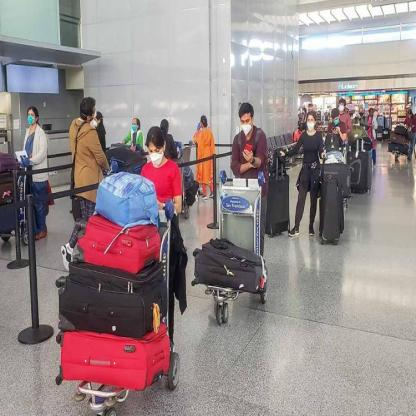airport-trolley: (68, 200, 179, 416), (204, 172, 271, 324), (13, 154, 32, 251)
